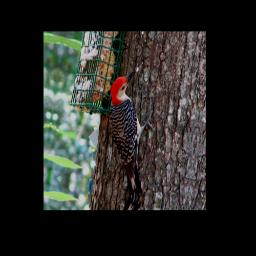Woodpecker: (97, 62, 165, 200)
